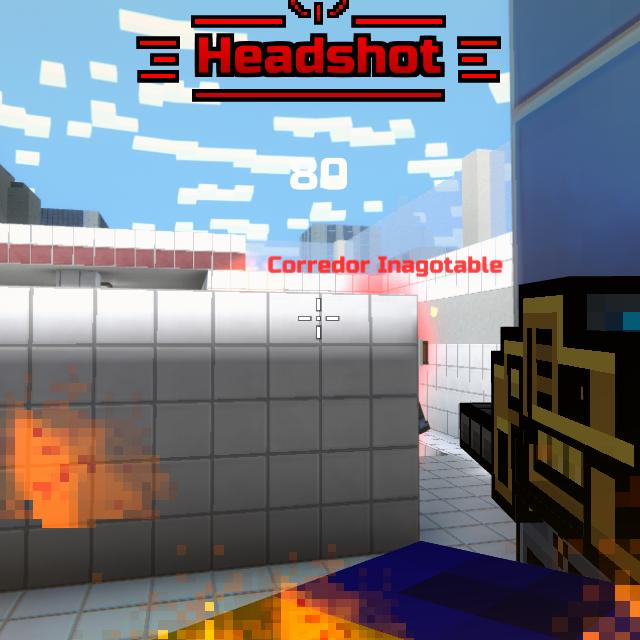Enemy: (413, 304, 432, 446)
